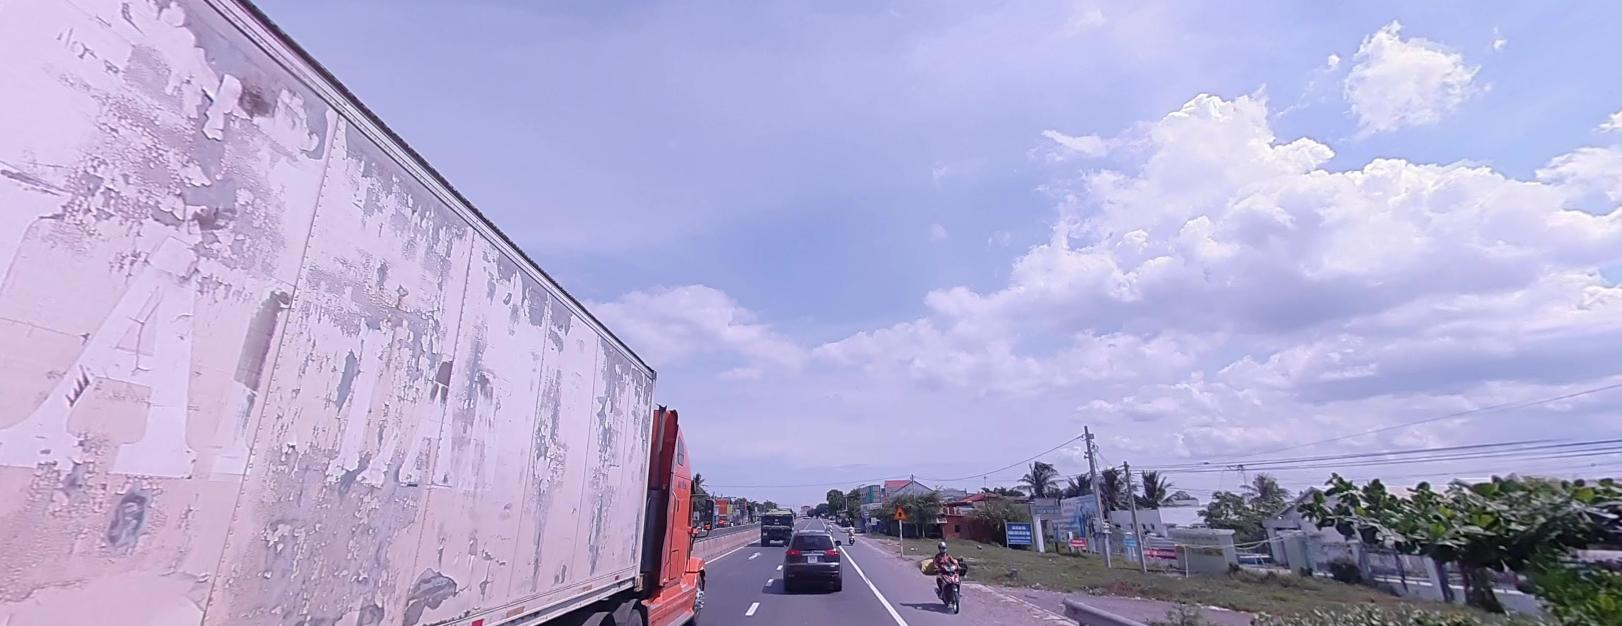Nguy hiem: (892, 503, 908, 519)
